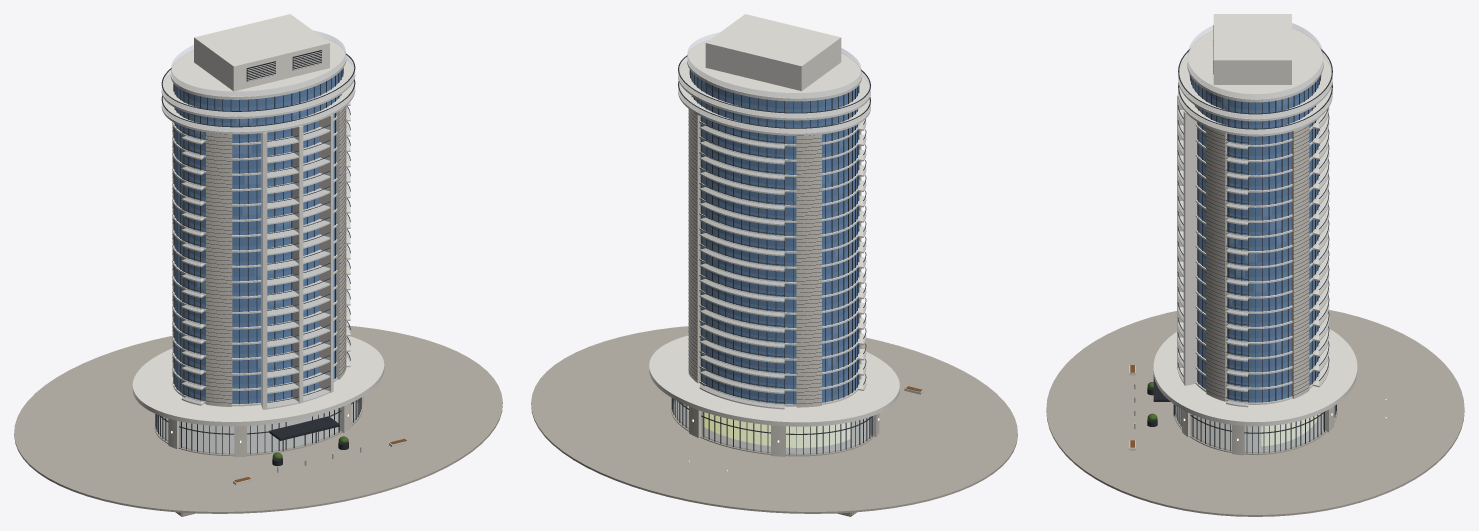
Rendered from fci_tower.glb.
3 renders of one model, left to right at view 1: azimuth 30°, elevation 25°; view 2: azimuth 150°, elevation 25°; view 3: azimuth 270°, elevation 25°, orthographic.
Visible parts, largest first — view 1: Plaza, Fins, Roof, Canopy, L01, L21, L20, L10, L11, L04, L05, L08 (+13 smaller); view 2: Plaza, Roof, Fins, Canopy, L01, L21, L20, L05, L15, L06, L08, L18 (+13 smaller); view 3: Plaza, Fins, Roof, Canopy, L01, L21, L20, L06, L12, L18, L16, L10 (+13 smaller).
Boxes of the visible parts, <box> form: Plaza: <box>14,325,502,513</box>; Fins: <box>172,106,346,409</box>; Roof: <box>170,14,346,99</box>; Canopy: <box>132,336,384,426</box>; L01: <box>154,396,363,456</box>; L21: <box>161,53,355,118</box>; L20: <box>161,79,355,134</box>; L10: <box>172,229,350,286</box>; L11: <box>172,213,350,270</box>; L04: <box>172,321,350,378</box>; L05: <box>172,306,350,362</box>; L08: <box>172,260,350,316</box>; Plaza: <box>531,326,1017,513</box>; Roof: <box>687,14,861,101</box>; Fins: <box>688,109,861,407</box>; Canopy: <box>649,335,899,426</box>; L01: <box>670,398,879,456</box>; L21: <box>678,55,870,120</box>; L20: <box>678,81,870,135</box>; L05: <box>699,323,866,363</box>; L15: <box>699,170,866,210</box>; L06: <box>699,308,866,348</box>; L08: <box>699,277,866,317</box>; L18: <box>699,124,866,164</box>; Plaza: <box>1046,310,1464,516</box>; Fins: <box>1177,94,1309,401</box>; Roof: <box>1187,14,1323,102</box>; Canopy: <box>1153,328,1357,426</box>; L01: <box>1153,375,1337,455</box>; L21: <box>1178,48,1332,121</box>; L20: <box>1178,83,1332,136</box>; L06: <box>1177,295,1329,346</box>; L12: <box>1177,204,1329,255</box>; L18: <box>1177,113,1329,164</box>; L16: <box>1177,144,1329,194</box>; L10: <box>1177,235,1329,285</box>.
Size of the model in its own units: 96 by 83.1 by 80.
